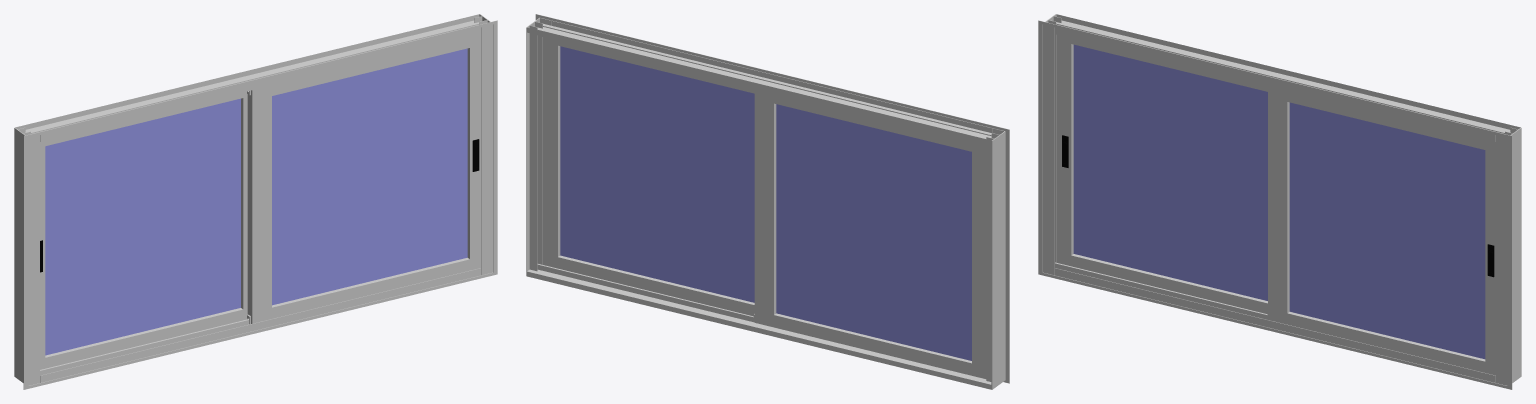
File: SlidingWindow.fbx
The picture shows the model from 3 angles, left to right: view 1: azimuth 30°, elevation 25°; view 2: azimuth 150°, elevation 25°; view 3: azimuth 330°, elevation 25°; orthographic projection.
Parts seen in each view (by area): view 1: Window.R, Window.L, Sliding Window; view 2: Window.L, Window.R, Sliding Window; view 3: Window.R, Window.L, Sliding Window.
Part boxes in pixels (x1=…): Window.R: x1=247, y1=34, x2=480, y2=324; Window.L: x1=40, y1=91, x2=247, y2=369; Sliding Window: x1=14, y1=14, x2=497, y2=389; Window.L: x1=753, y1=88, x2=986, y2=378; Window.R: x1=543, y1=37, x2=754, y2=316; Sliding Window: x1=526, y1=14, x2=1009, y2=389; Window.R: x1=1267, y1=86, x2=1495, y2=375; Window.L: x1=1056, y1=35, x2=1267, y2=314; Sliding Window: x1=1038, y1=14, x2=1521, y2=389.
Bounding box in the file's own units: 460 × 235 × 22.97.
